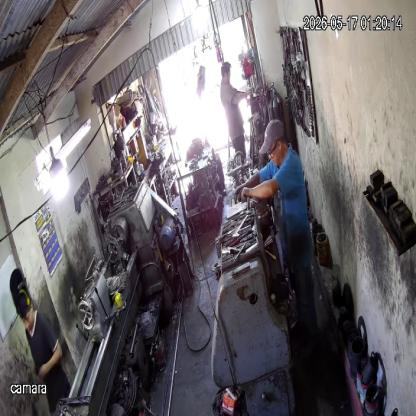lentes: (267, 139, 280, 158)
